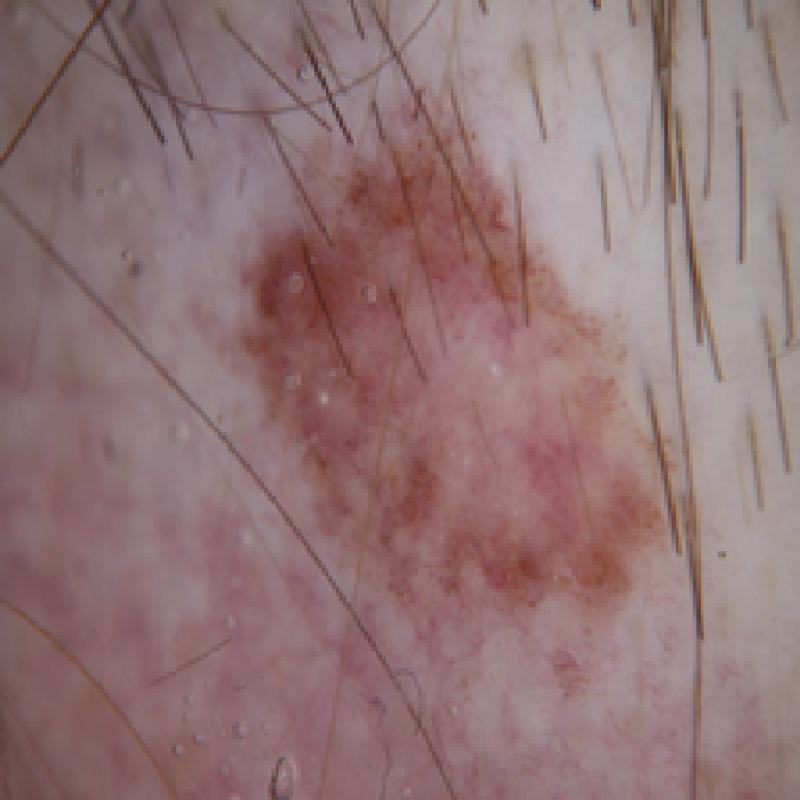benign: (190, 62, 716, 696)
